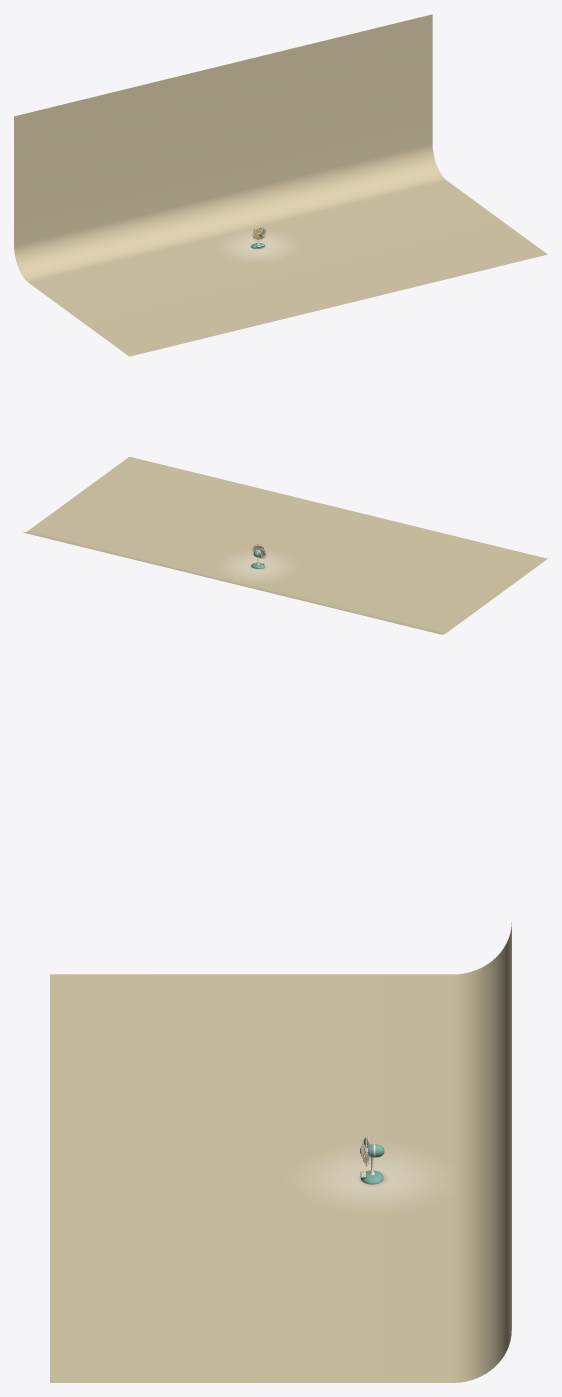
The model's file is fan.glb.
3 views of the same model, one above another, from view 1: azimuth 30°, elevation 25°; view 2: azimuth 150°, elevation 25°; view 3: azimuth 270°, elevation 25° (orthographic). The views are drawn at different scales.
Parts seen in each view (by area): view 1: Sweep; view 2: Sweep; view 3: Sweep.
Part boxes in pixels (left/top/right/bottom): Sweep: left=14, top=14, right=547, bottom=356; Sweep: left=23, top=456, right=547, bottom=634; Sweep: left=50, top=922, right=511, bottom=1382.
Bounding box in the file's own units: 9 × 3.2 × 4.3.
Materials: 11 (3 with a texture image).
